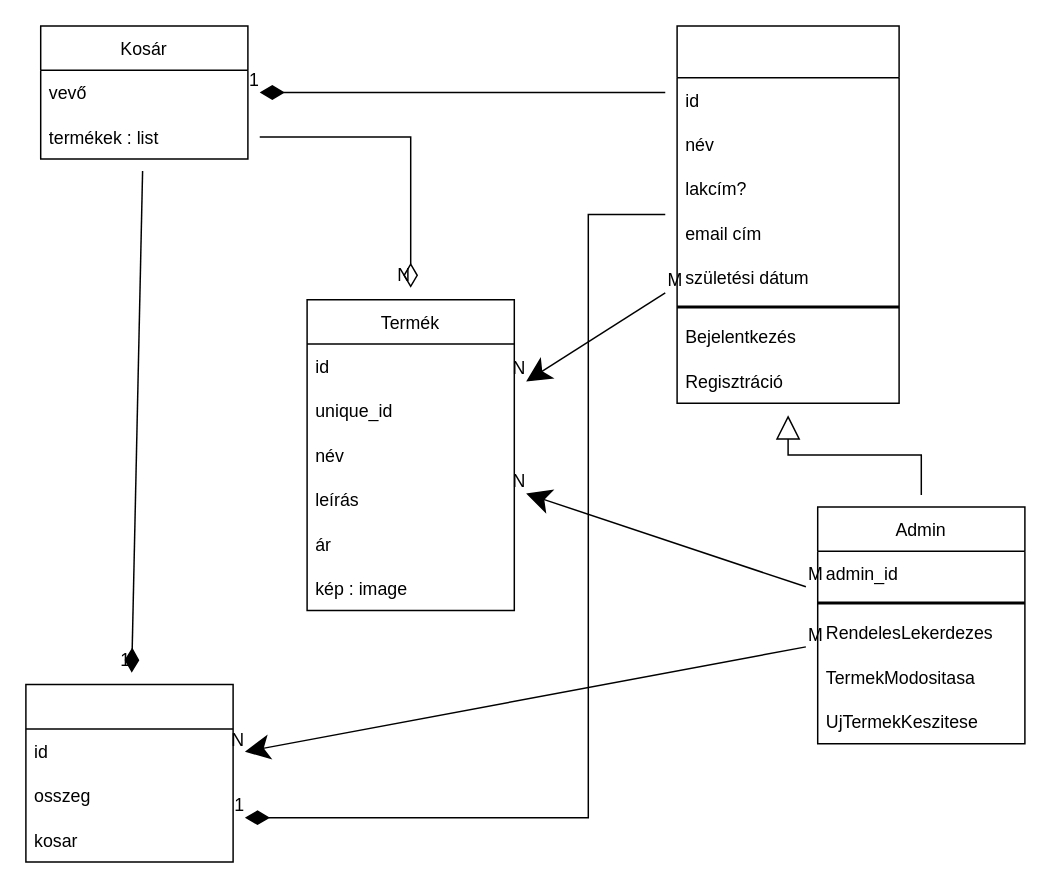
This 1052x888 diagram has some shape labels left out. The box of each missing label's shape, as (x1, y1, x2, y2) in pixels:
Felhasználó: (676, 24, 899, 403)
Fizetési fül: (24, 683, 233, 862)
